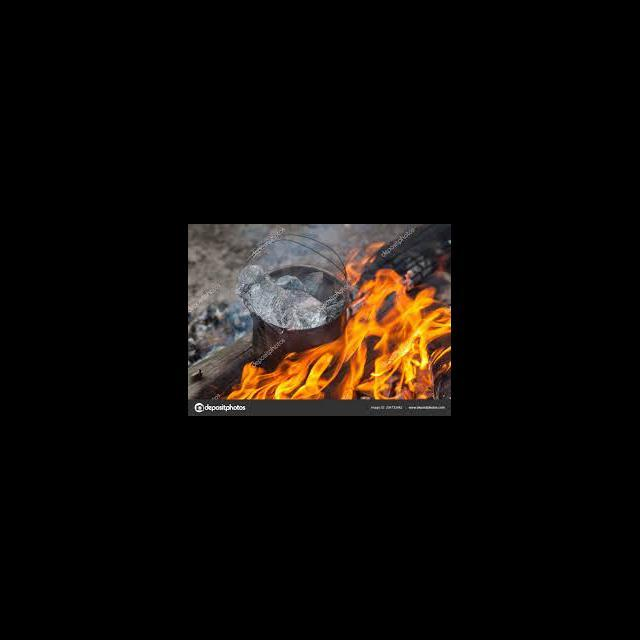Fire: (234, 272, 452, 399), (344, 240, 386, 274)
